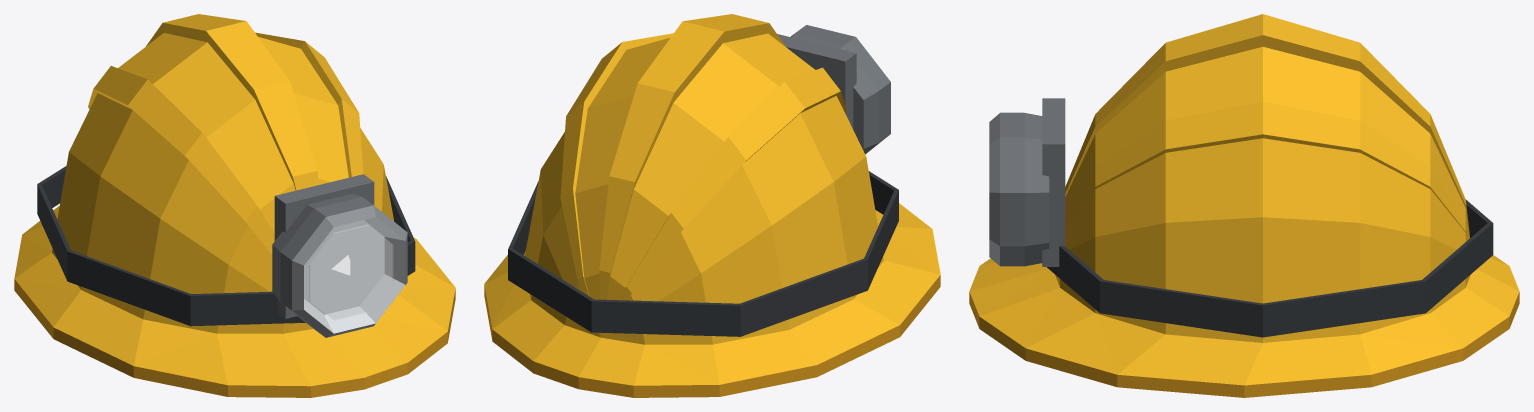
Rendered from Mining Helmet.glb.
The picture shows the model from 3 angles, left to right: view 1: azimuth 30°, elevation 25°; view 2: azimuth 150°, elevation 25°; view 3: azimuth 270°, elevation 25°; orthographic projection. The views are drawn at different scales.
Parts seen in each view (by area): view 1: Mining Helmet.Static; view 2: Mining Helmet.Static; view 3: Mining Helmet.Static.
Part boxes in pixels (box(x1,y1,x2,y2)): Mining Helmet.Static: box(14, 14, 455, 397); Mining Helmet.Static: box(484, 14, 940, 397); Mining Helmet.Static: box(969, 14, 1519, 397).
Bounding box in the file's own units: 0.4103 × 0.2837 × 0.5065.
